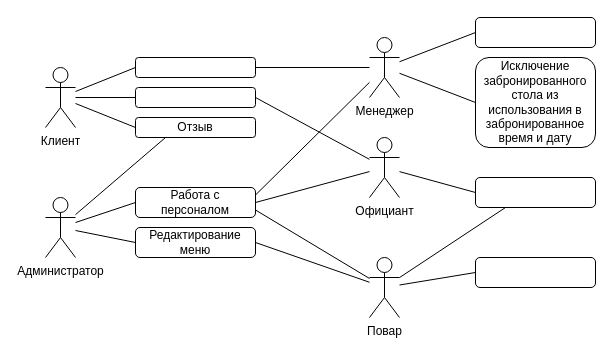
The diagram is 613 pixels wide and 356 high, and some of its shapes have lost their labels. Each missing label, with the centre of its shape:
"Бронь стола" goes at (195,67).
"Внесение заказа в базу" goes at (535,192).
"Заказ" goes at (195,97).
"Подтверждение брони" goes at (535,32).
"Приготовление блюд" goes at (535,272).
